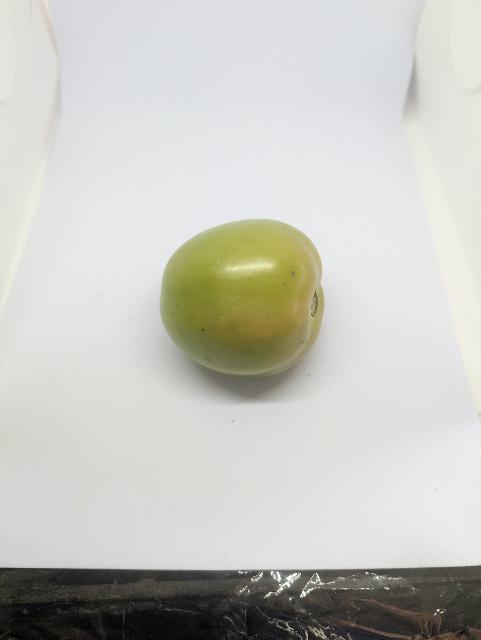green: (152, 213, 340, 398)
